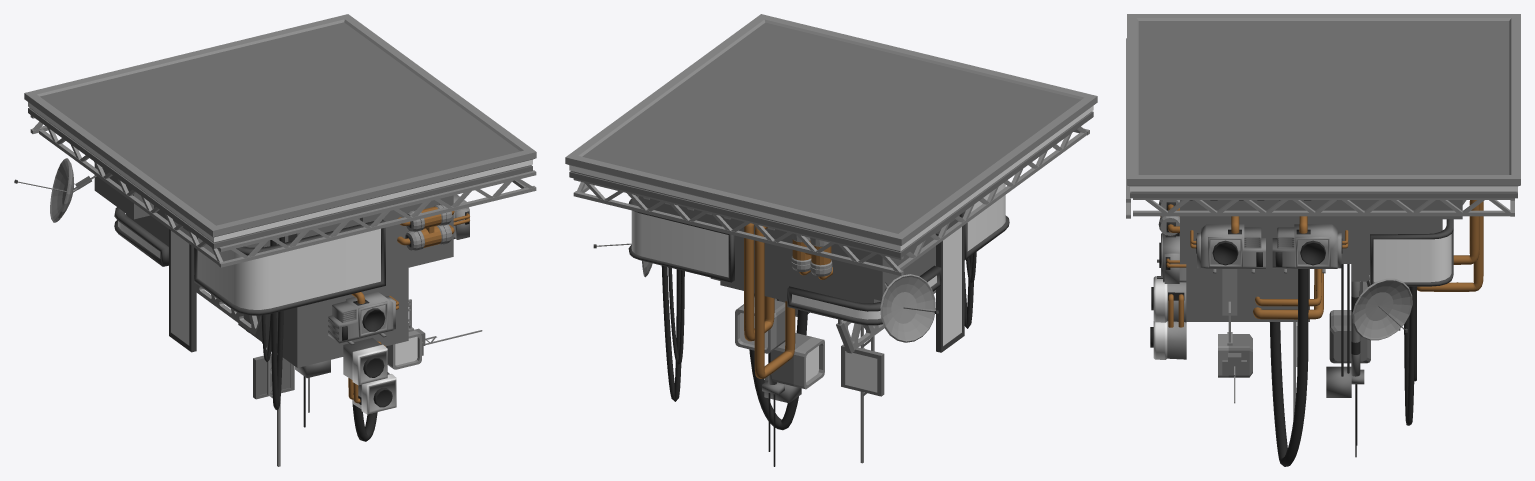
The model's file is quaternius-cyberpunk-pack-platform-4x4.glb.
3 renders of one model, left to right at view 1: azimuth 30°, elevation 25°; view 2: azimuth 150°, elevation 25°; view 3: azimuth 270°, elevation 25°, orthographic. The views are drawn at different scales.
Parts seen in each view (by area): view 1: Platform_4x4; view 2: Platform_4x4; view 3: Platform_4x4.
Boxes of the visible parts, bbox=[...] form: Platform_4x4: bbox=[14, 14, 536, 466]; Platform_4x4: bbox=[565, 14, 1097, 466]; Platform_4x4: bbox=[1126, 14, 1520, 466].
Bounding box in the file's own units: 4.47 × 3.76 × 3.9.
